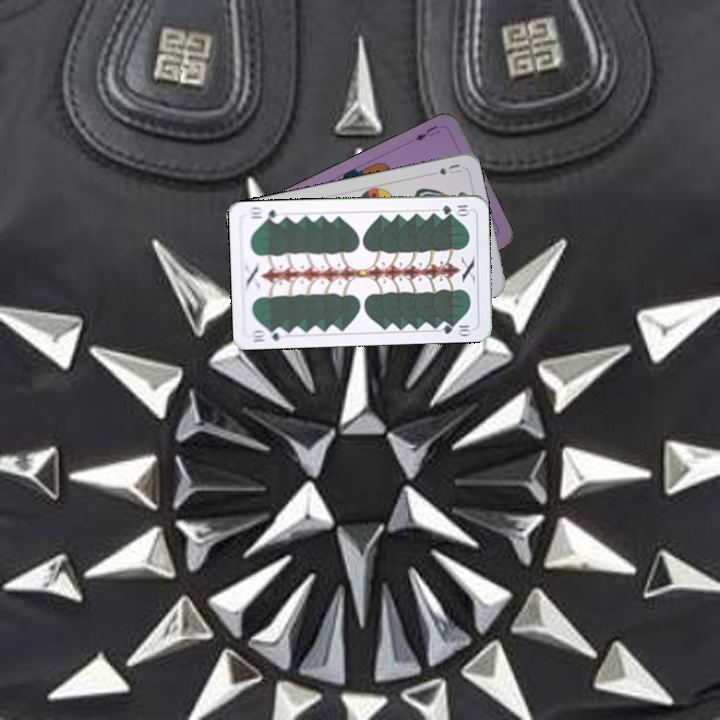EU: (411, 121, 440, 143)
G10: (248, 324, 288, 345), (438, 201, 473, 217)
SU: (436, 160, 464, 177)
